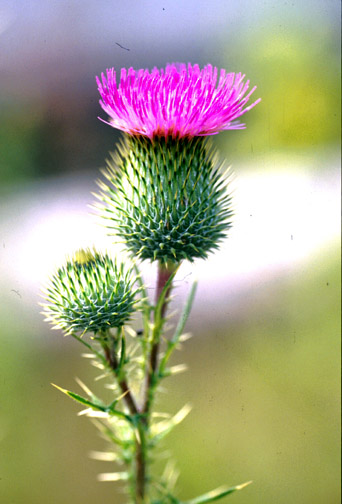thistle: (80, 61, 262, 262)
